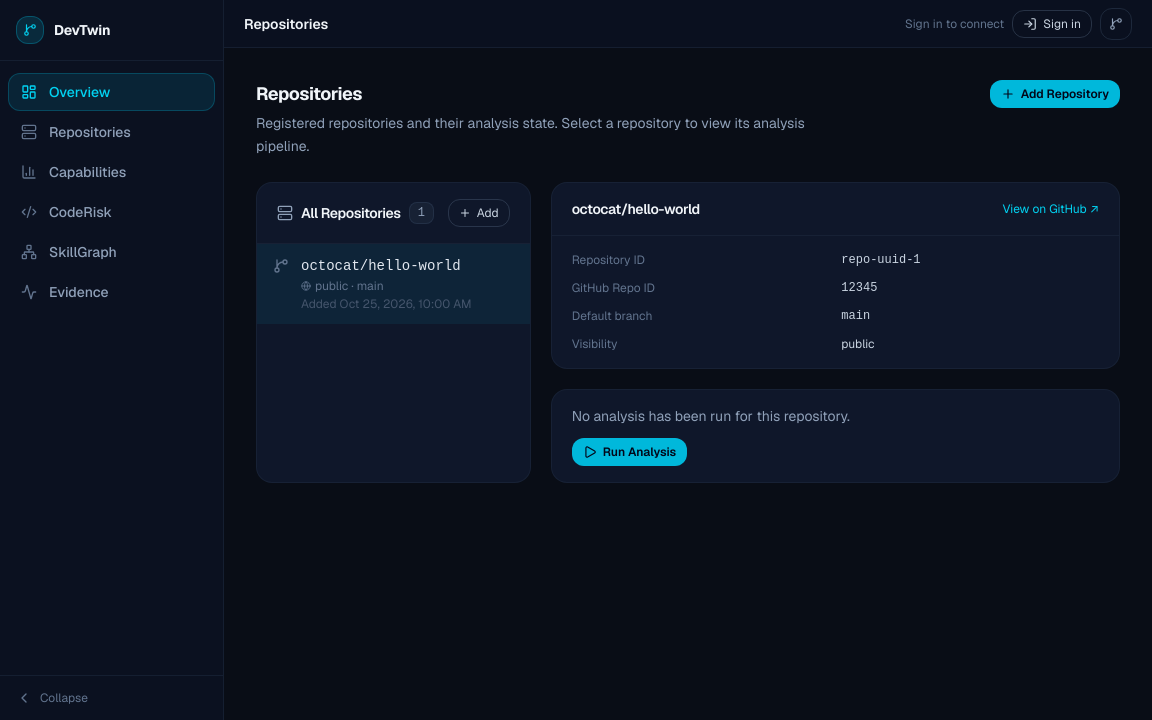
Test: RepositoriesPage › surfaces error when submitAnalysisJob fails
Click the button "Run Analysis" at [629, 452], box [572,438,687,466]
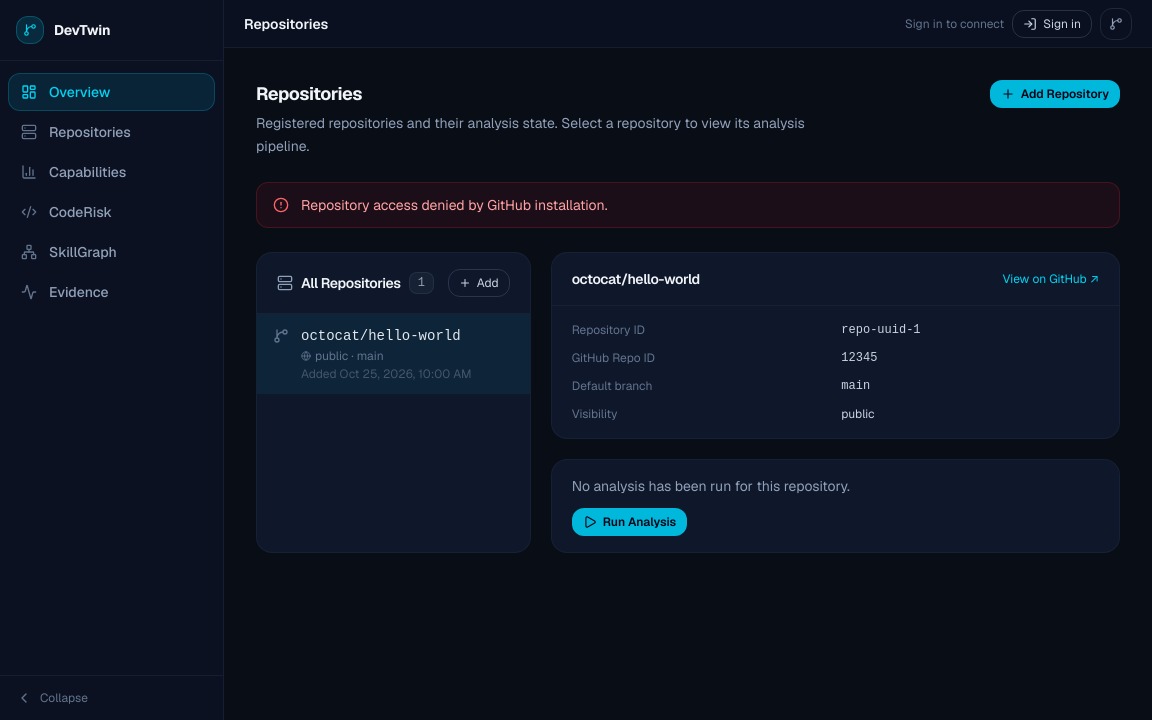
Expected: the text "Repository access denied by GitHub installation." is shown, [301,194,608,214]
